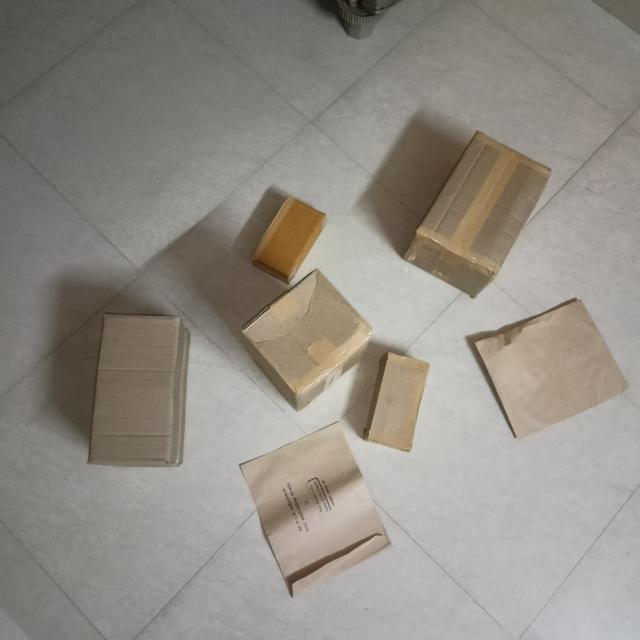box: (243, 419, 391, 596), (477, 296, 630, 444), (421, 131, 556, 274), (244, 267, 375, 393), (97, 317, 178, 474), (257, 190, 325, 278), (368, 352, 425, 448)
